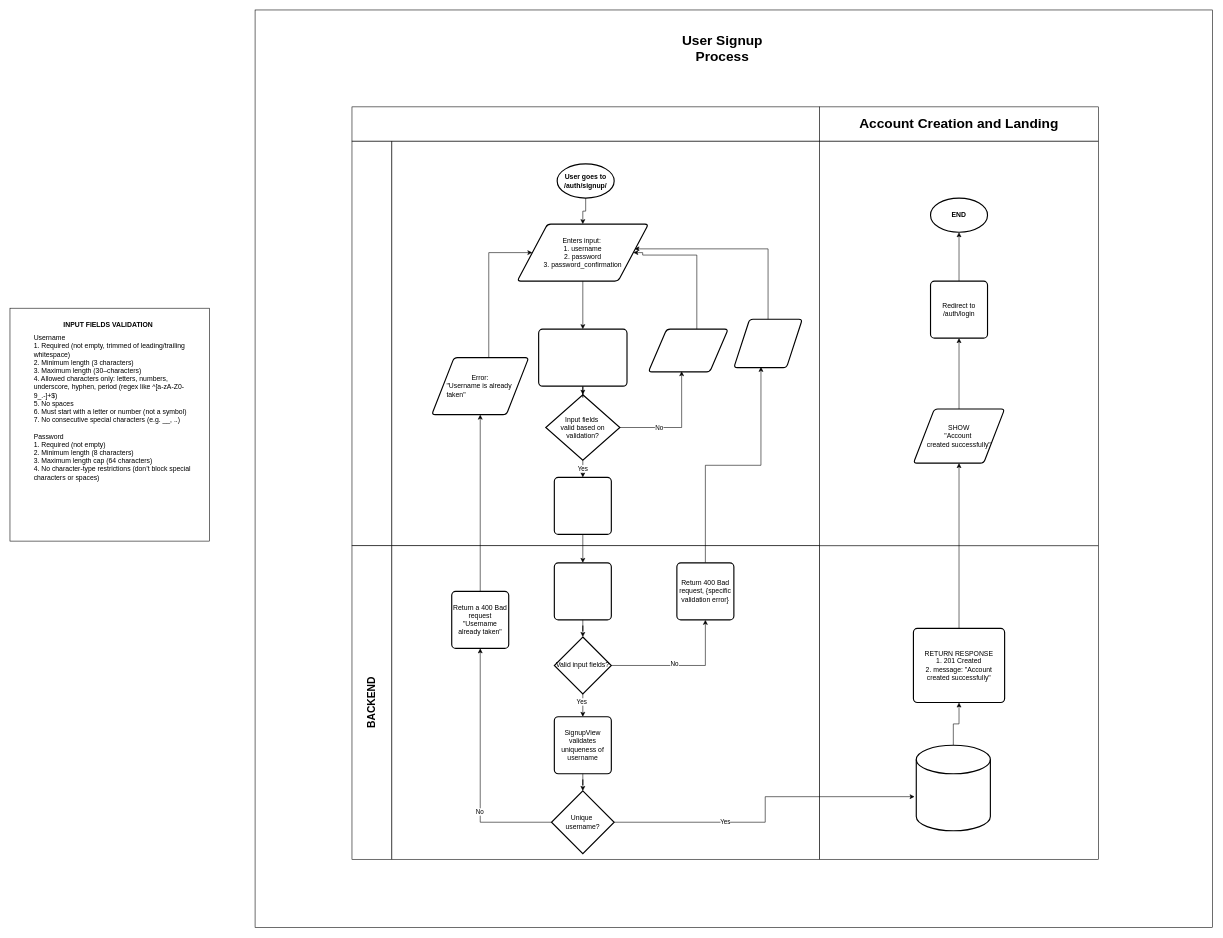
The diagram is 1223 pixels wide and 938 high, and some of its shapes have lost their labels. The shapes that lost their labels are listed below. From the top down, each one's centre as x and y in pixels, then its label:
At pixel 585 123: "Input and Validation".
At pixel 371 343: "FRONTEND".
At pixel 582 357: "1. Validate input fields 2. Check if password fields match".
At pixel 688 350: "Show specific validation error".
At pixel 768 343: "Show backend validation error".
At pixel 582 506: "Sends request to /auth/signup/ Body: 1. username 2. password".
At pixel 582 591: "Validate input fields in the serializer".
At pixel 953 787: "Save the user account to database".
